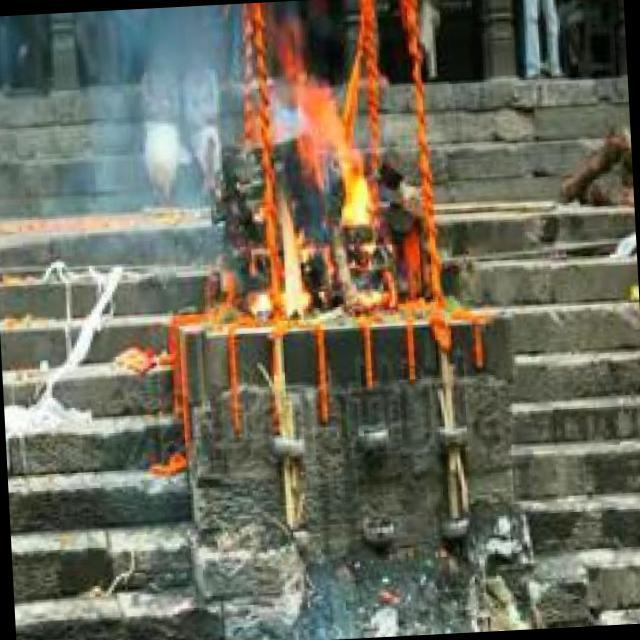Fire: (255, 42, 384, 320)
